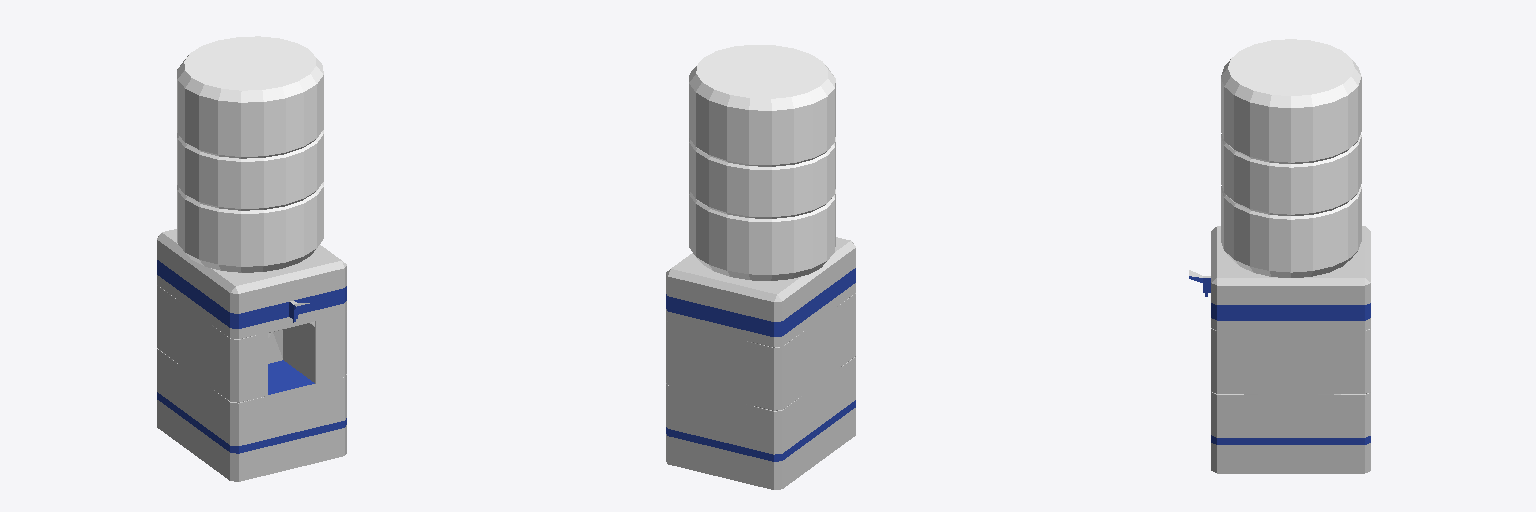
File: Watercooler_RA.obj
3 renders of one model, left to right at view 1: azimuth 30°, elevation 25°; view 2: azimuth 150°, elevation 25°; view 3: azimuth 270°, elevation 25°, orthographic.
Visible parts, largest first — view 1: polySurface2; view 2: polySurface2; view 3: polySurface2.
Part boxes in pixels (left/top/right/bottom): polySurface2: left=157, top=36, right=346, bottom=481; polySurface2: left=666, top=45, right=855, bottom=489; polySurface2: left=1189, top=39, right=1370, bottom=473.
Size of the model in its own units: 1.11 by 3.08 by 1.35.